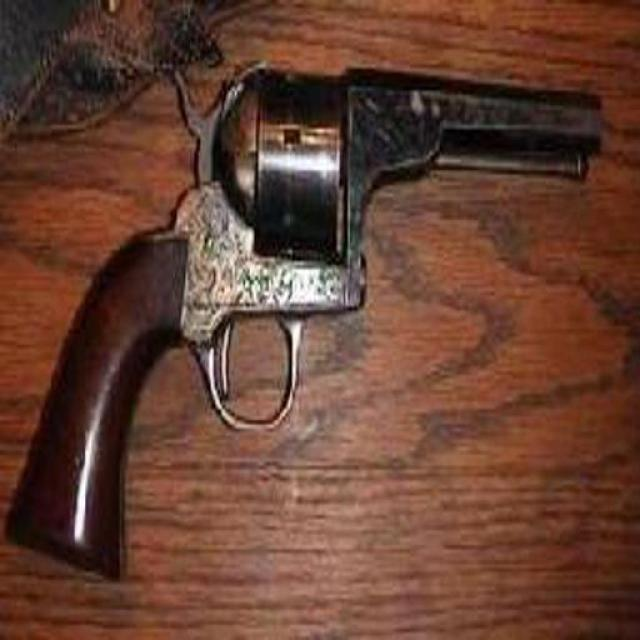pistol: (1, 41, 601, 563)
